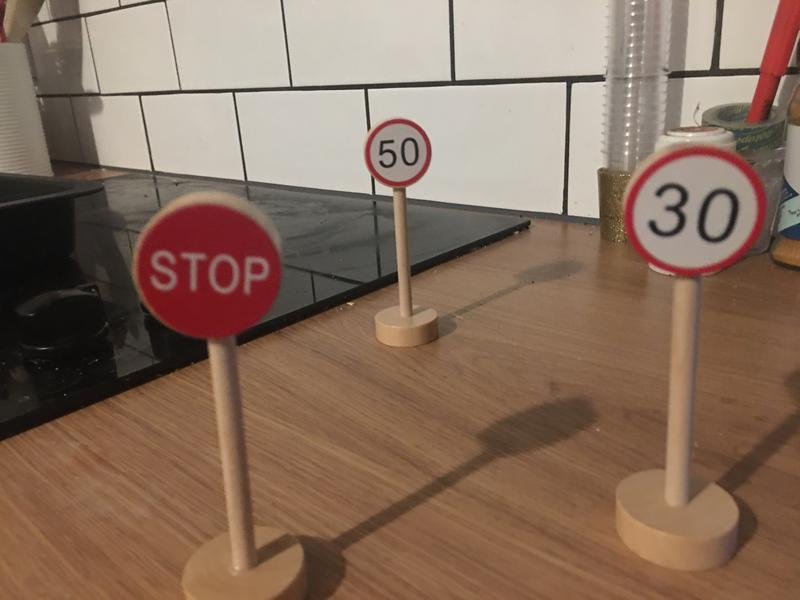Traffic_Sign_30: (624, 148, 758, 275)
Traffic_Sign_50: (364, 122, 430, 184)
Traffic_Sign_Stop: (133, 200, 279, 335)
